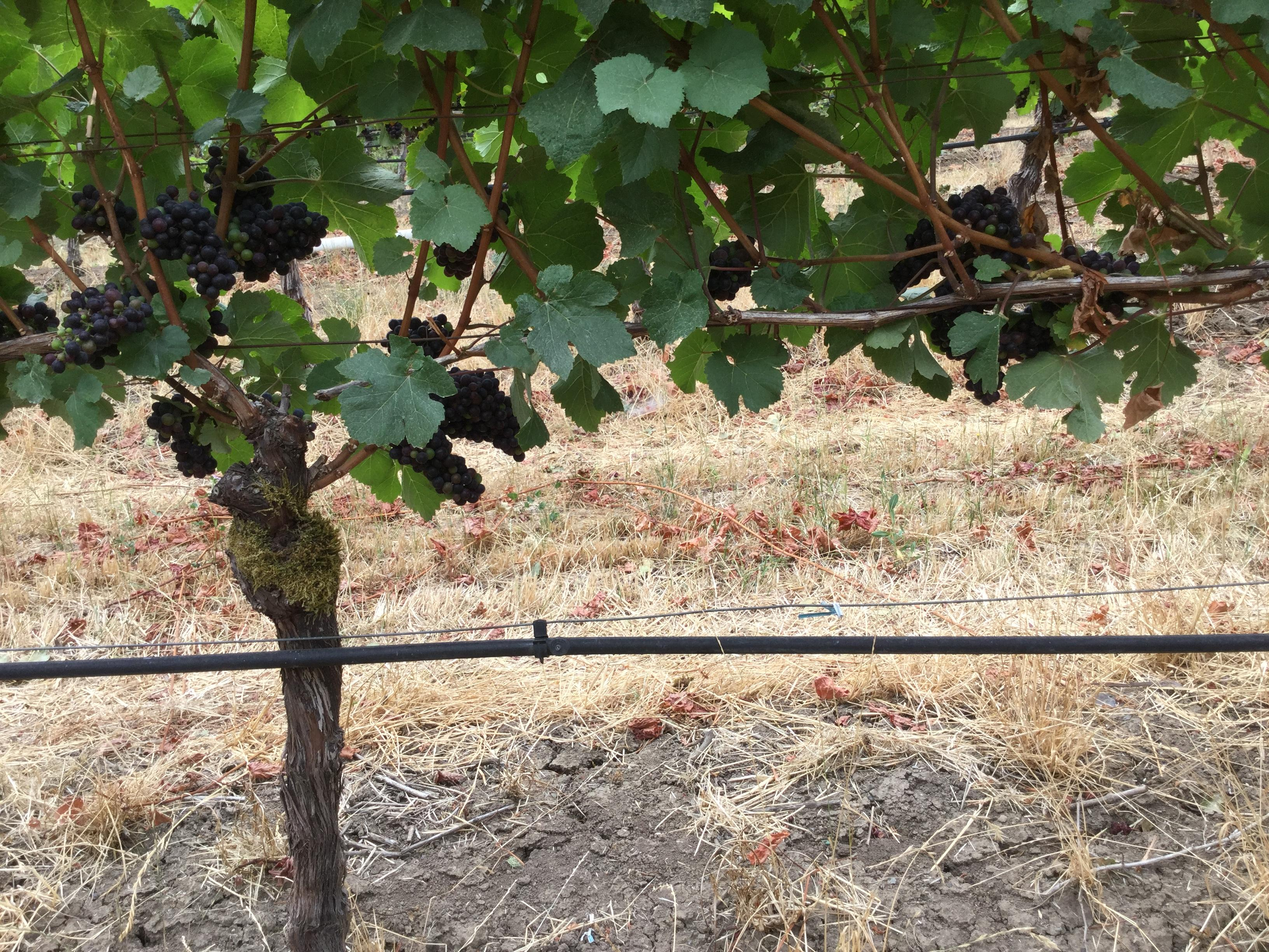leaf: (271, 128, 403, 263), (515, 265, 635, 376), (338, 338, 456, 445), (1005, 347, 1124, 441), (521, 56, 605, 167), (1108, 315, 1199, 405), (679, 24, 769, 115), (1005, 347, 1125, 408), (754, 153, 822, 256), (593, 53, 684, 128), (706, 334, 788, 415), (173, 36, 236, 140), (382, 3, 487, 55), (410, 182, 491, 249), (551, 358, 623, 432), (949, 66, 1016, 145), (603, 180, 674, 254), (699, 121, 798, 174), (1063, 143, 1125, 224), (1098, 54, 1192, 107), (640, 273, 708, 345), (290, 0, 360, 68), (613, 116, 680, 182), (949, 312, 1004, 392), (115, 324, 190, 377), (358, 60, 423, 117), (65, 373, 113, 449), (509, 368, 549, 451), (667, 329, 717, 392), (752, 262, 811, 310), (910, 334, 952, 400), (349, 449, 400, 502), (485, 325, 540, 374), (0, 161, 44, 219), (1031, 0, 1110, 32), (401, 467, 446, 519), (886, 0, 935, 46), (605, 257, 651, 306), (1088, 11, 1140, 52), (9, 355, 52, 404), (407, 139, 448, 187), (225, 89, 267, 133), (213, 431, 254, 472), (823, 326, 869, 362), (372, 236, 414, 275), (647, 0, 712, 25), (122, 64, 162, 100), (1210, 0, 1268, 24), (725, 179, 753, 226), (999, 37, 1044, 65), (972, 255, 1009, 280), (577, 0, 611, 26), (178, 365, 210, 386), (900, 234, 902, 240), (205, 426, 206, 431), (221, 126, 222, 128), (208, 136, 209, 137), (212, 133, 213, 134)
